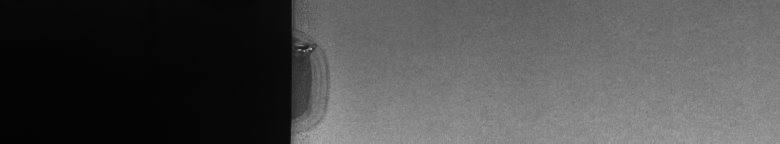hb: (300, 32, 335, 136)
